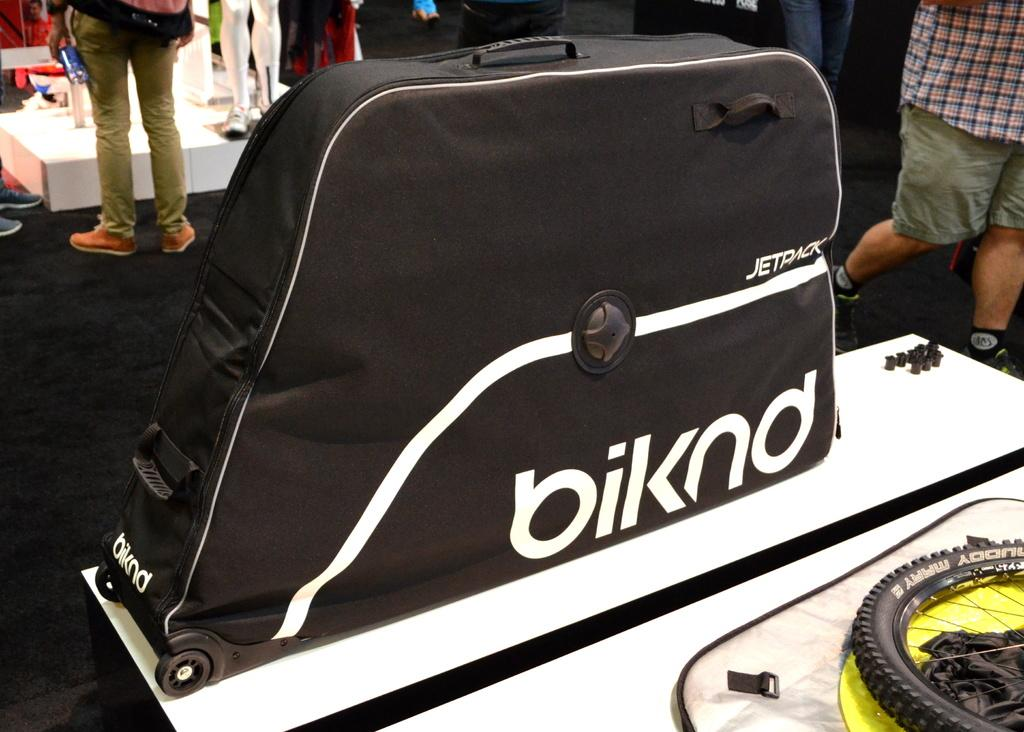Luggage-and-bags: (96, 32, 842, 694), (115, 0, 198, 45)
